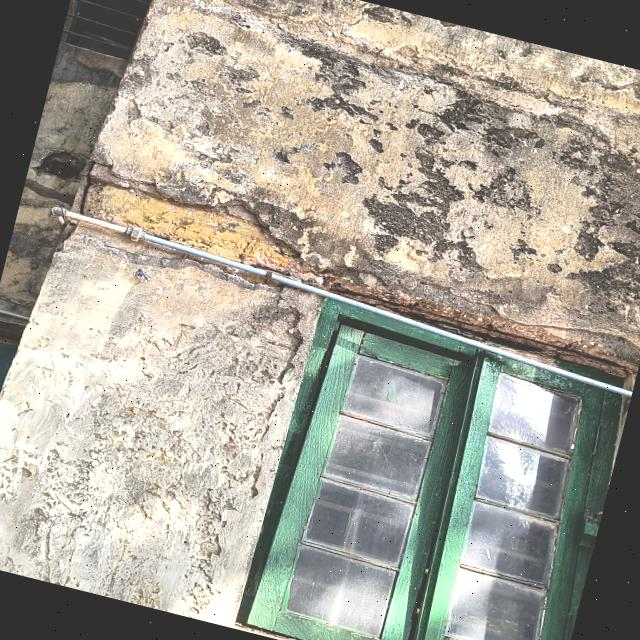peeling: (0, 219, 323, 628)
spalling: (69, 0, 640, 371), (329, 285, 637, 391)
stain_mould: (68, 0, 640, 369)
